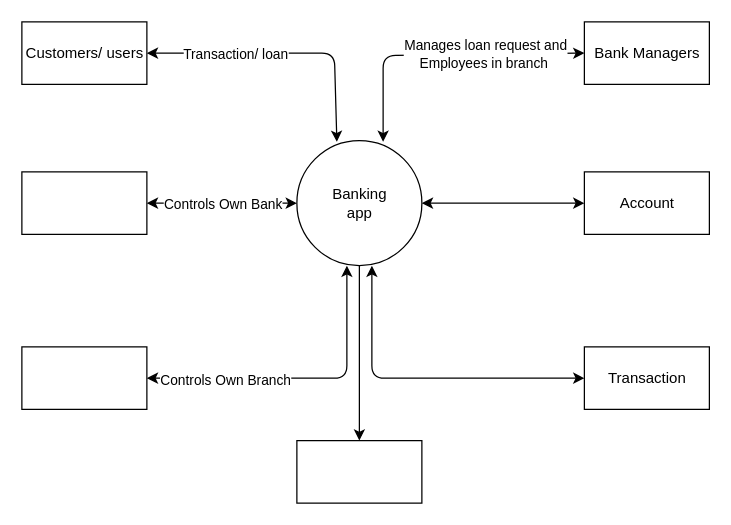
Some shapes in this 731 by 525 pixel diagram are drawn without their labels. Here are the shapes that lost their labels. From the top down, the box of each, then its label:
(21, 171, 147, 234): Other Banks
(21, 346, 147, 409): Other Branches
(296, 439, 422, 503): Login
